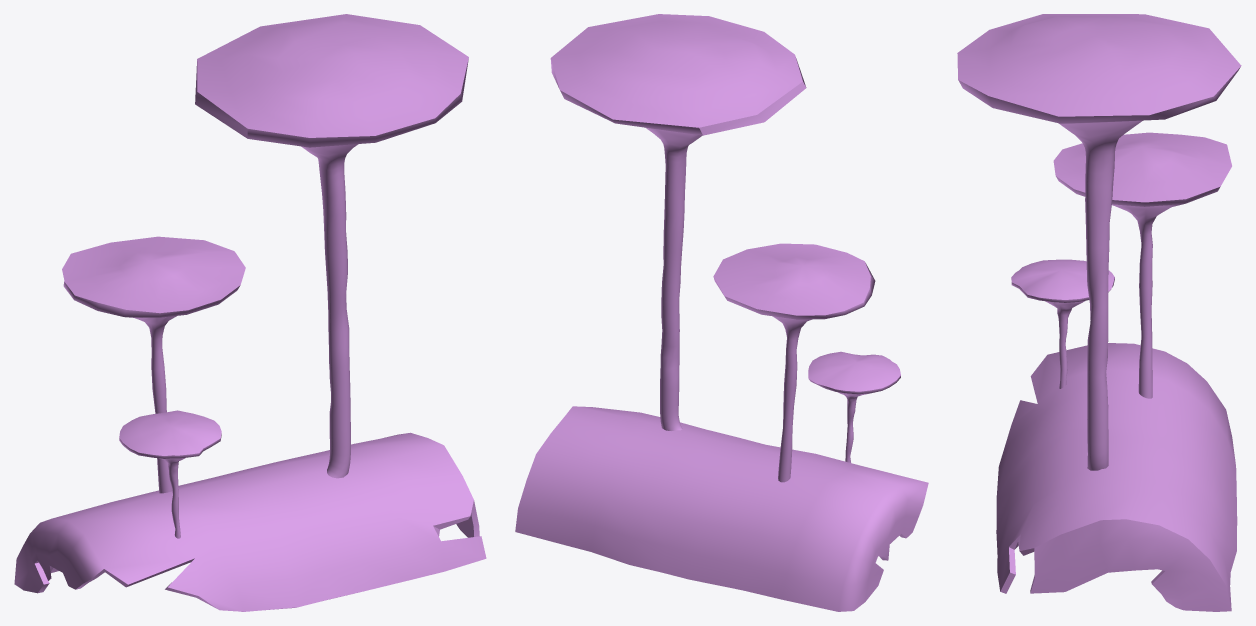
The model's file is plantMushrooms_mesh.fbx.
The picture shows the model from 3 angles, left to right: view 1: azimuth 30°, elevation 25°; view 2: azimuth 150°, elevation 25°; view 3: azimuth 270°, elevation 25°; orthographic projection. The views are drawn at different scales.
Visible parts, largest first — view 1: Vegetation; view 2: Vegetation; view 3: Vegetation.
Part boxes in pixels (box(x1,y1,x2,y2)): Vegetation: box(14, 14, 486, 611); Vegetation: box(515, 14, 928, 611); Vegetation: box(957, 14, 1241, 611).
Size of the model in its own units: 21.73 by 28.49 by 14.11.
